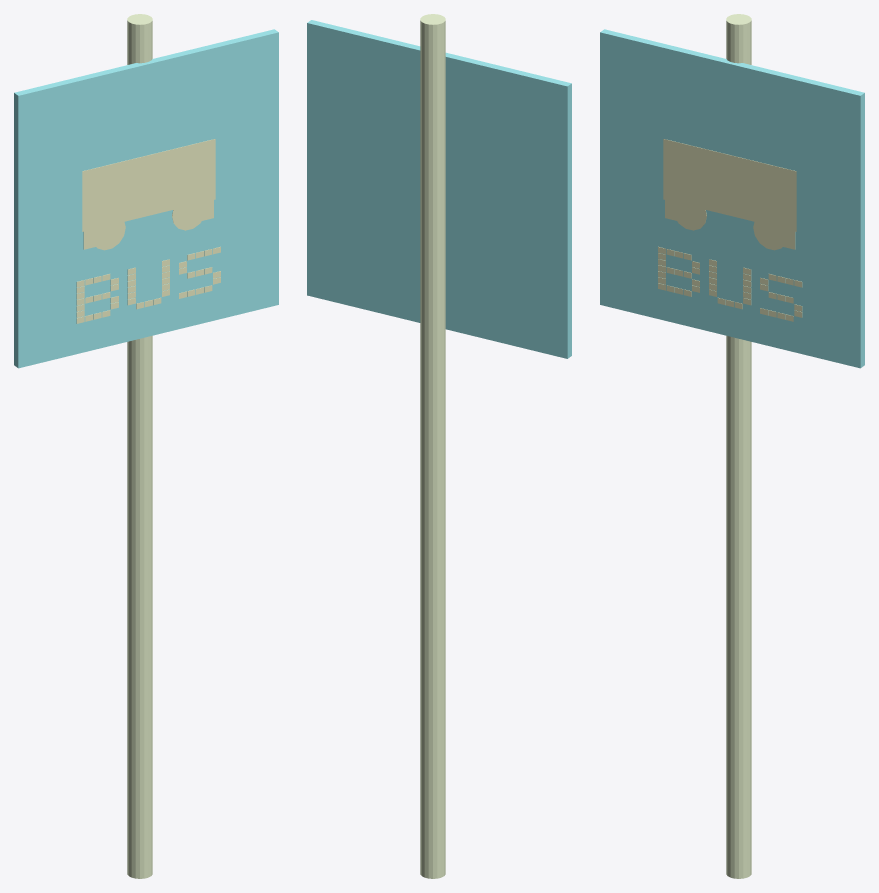
The model's file is sign_bus_stop.glb.
The picture shows the model from 3 angles, left to right: view 1: azimuth 30°, elevation 25°; view 2: azimuth 150°, elevation 25°; view 3: azimuth 330°, elevation 25°; orthographic projection.
Visible parts, largest first — view 1: plate_base_00, pole, layer_1_00, layer_1_03; view 2: plate_base_00, pole; view 3: plate_base_00, pole, layer_1_00, layer_1_04, layer_1_03.
Boxes of the visible parts, x1=… form: plate_base_00: x1=14, y1=29, x2=278, y2=368; pole: x1=127, y1=14, x2=152, y2=878; layer_1_00: x1=82, y1=139, x2=215, y2=231; layer_1_03: x1=91, y1=214, x2=125, y2=250; plate_base_00: x1=307, y1=20, x2=571, y2=358; pole: x1=420, y1=14, x2=445, y2=878; plate_base_00: x1=600, y1=29, x2=864, y2=368; pole: x1=726, y1=14, x2=751, y2=878; layer_1_00: x1=663, y1=139, x2=796, y2=231; layer_1_04: x1=753, y1=214, x2=787, y2=250; layer_1_03: x1=673, y1=194, x2=706, y2=230.
Size of the model in its own units: 0.702 by 2.2 by 0.071.
